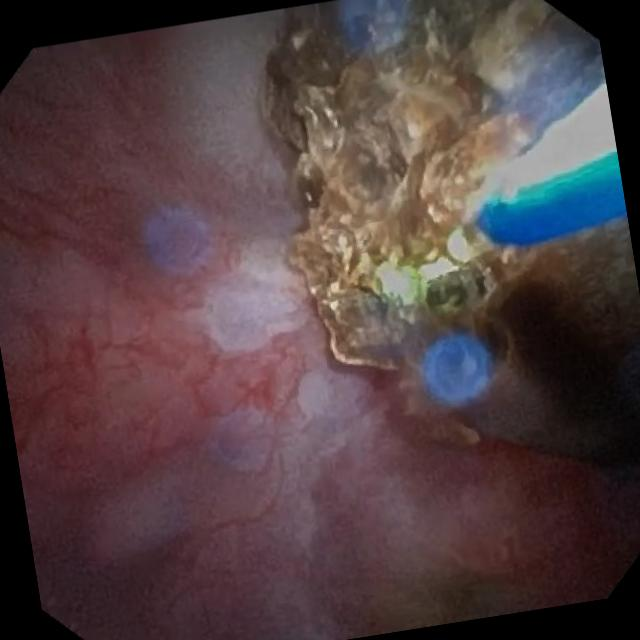laser-fibre: (449, 213, 493, 261)
laser_dot: (377, 262, 421, 304)
stone-new: (265, 0, 640, 464), (406, 578, 533, 629)
